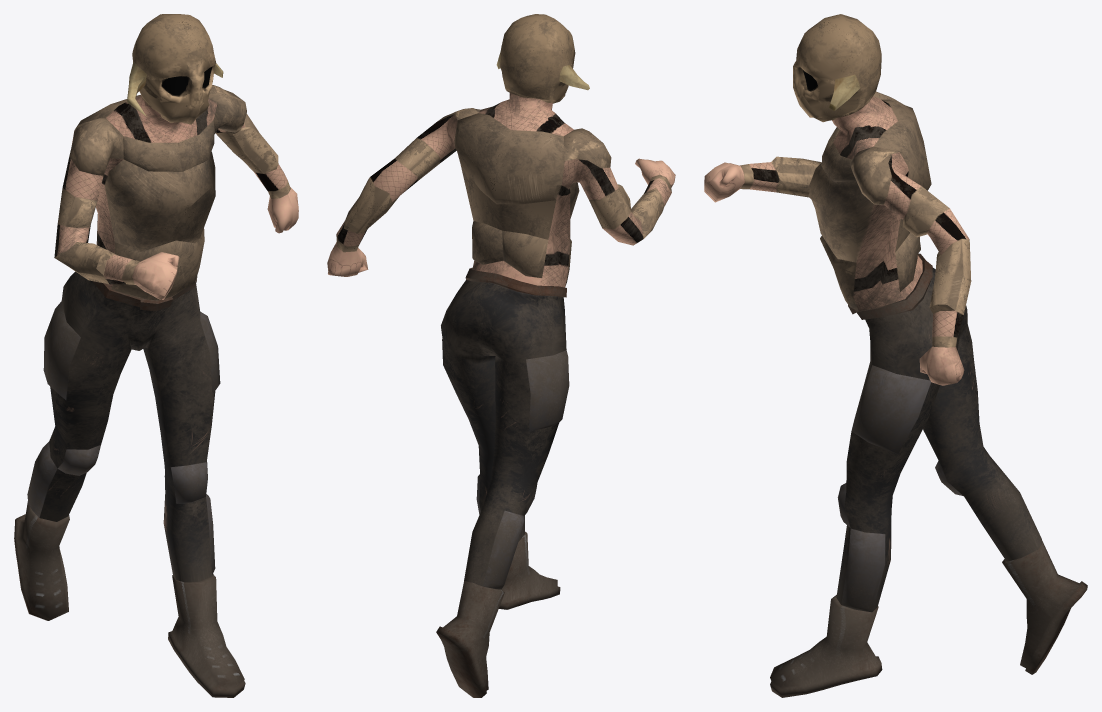
The model's file is Anim_correr_npc1.0036.obj.
The picture shows the model from 3 angles, left to right: view 1: azimuth 30°, elevation 25°; view 2: azimuth 150°, elevation 25°; view 3: azimuth 270°, elevation 25°; orthographic projection. The views are drawn at different scales.
Visible parts, largest first — view 1: Anim_correr_npc1; view 2: Anim_correr_npc1; view 3: Anim_correr_npc1.
Boxes of the visible parts, left/top/right/bottom form: Anim_correr_npc1: left=14, top=14, right=298, bottom=697; Anim_correr_npc1: left=327, top=14, right=675, bottom=697; Anim_correr_npc1: left=704, top=14, right=1087, bottom=697.
Size of the model in its own units: 4.55 by 9.85 by 5.13.
